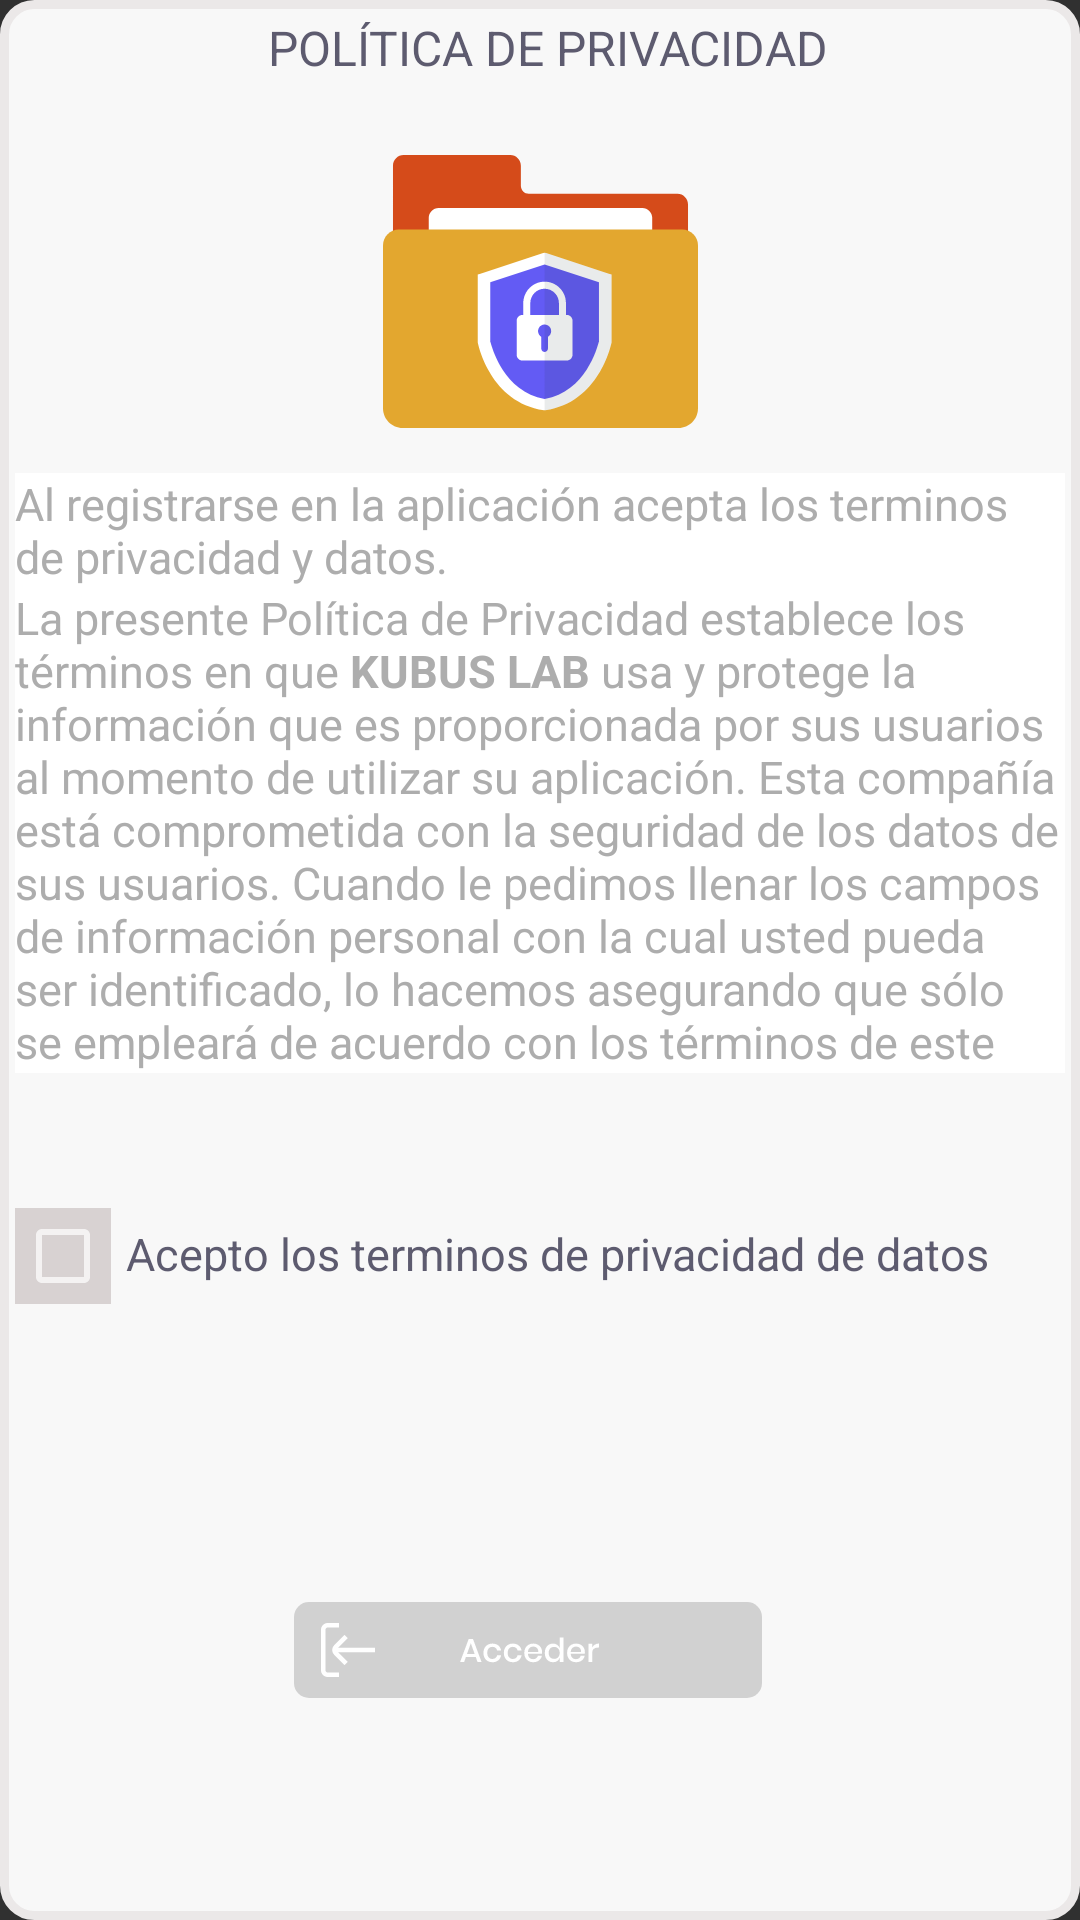

Point at icon controls on the screen. Image size 1080px×1920px, points as point (x, y).
proteccion de datos: point (540, 291)
